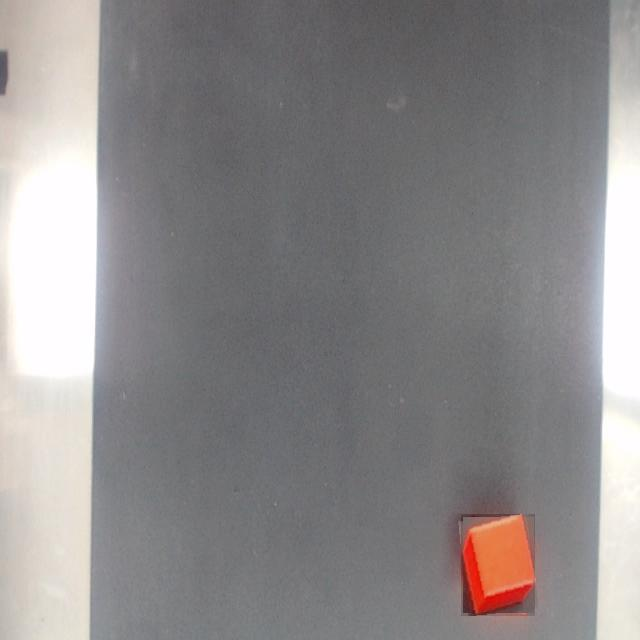Rojo: (462, 514, 535, 616)
